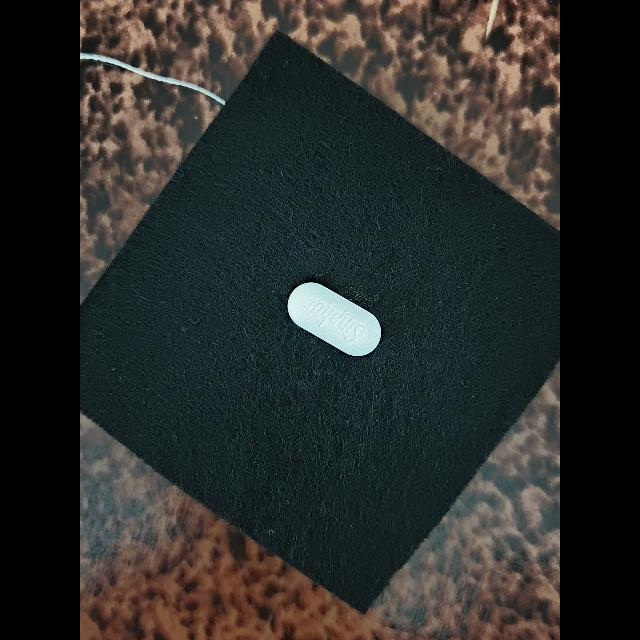Intact Pill: (287, 283, 382, 356)
